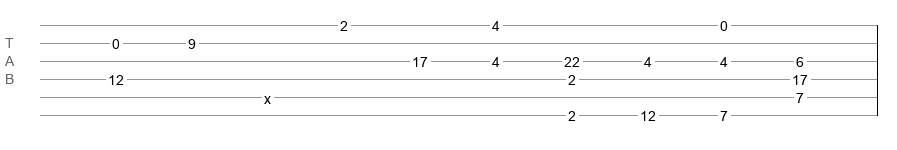0: (112, 36, 120, 46), (720, 18, 728, 28)
12: (108, 72, 124, 82), (640, 108, 656, 118)
17: (412, 54, 428, 64), (792, 72, 808, 82)
2: (340, 18, 348, 28), (568, 72, 576, 82), (568, 108, 576, 118)
22: (564, 54, 580, 64)
4: (492, 18, 500, 28), (492, 54, 500, 64), (644, 54, 652, 64), (720, 54, 728, 64)
6: (796, 54, 804, 64)
7: (720, 108, 728, 118), (796, 90, 804, 100)
9: (188, 36, 196, 46)
x: (264, 91, 271, 99)
